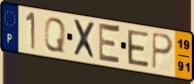1: (25, 12, 36, 52)
E: (97, 20, 122, 67), (126, 29, 150, 69)
P: (151, 31, 175, 71)
Q: (43, 17, 67, 55)
X: (72, 18, 98, 62)
